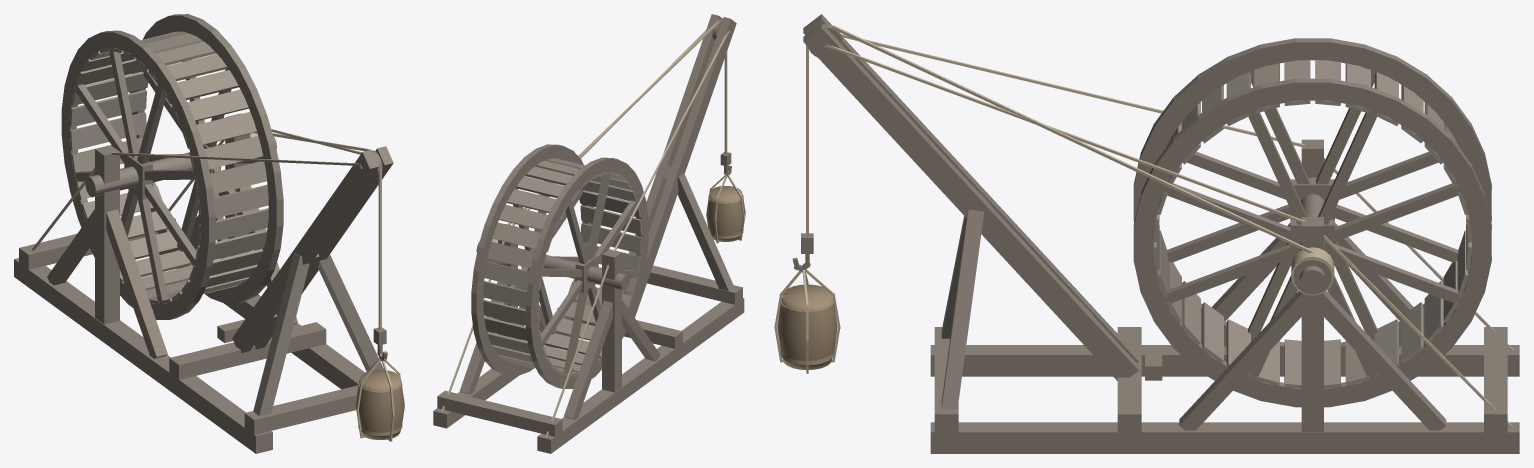
File: crane-1475.glb
3 views of the same model, side by side, from view 1: azimuth 30°, elevation 25°; view 2: azimuth 150°, elevation 25°; view 3: azimuth 270°, elevation 25° (orthographic). The views are drawn at different scales.
Parts seen in each view (by area): view 1: axle; view 2: axle; view 3: axle.
Part boxes in pixels (x1,y1,x2,y2): axle: (14,14,404,453); axle: (433,14,745,453); axle: (774,14,1519,453).
Size of the model in its own units: 3.2 by 5.4 by 9.37.
